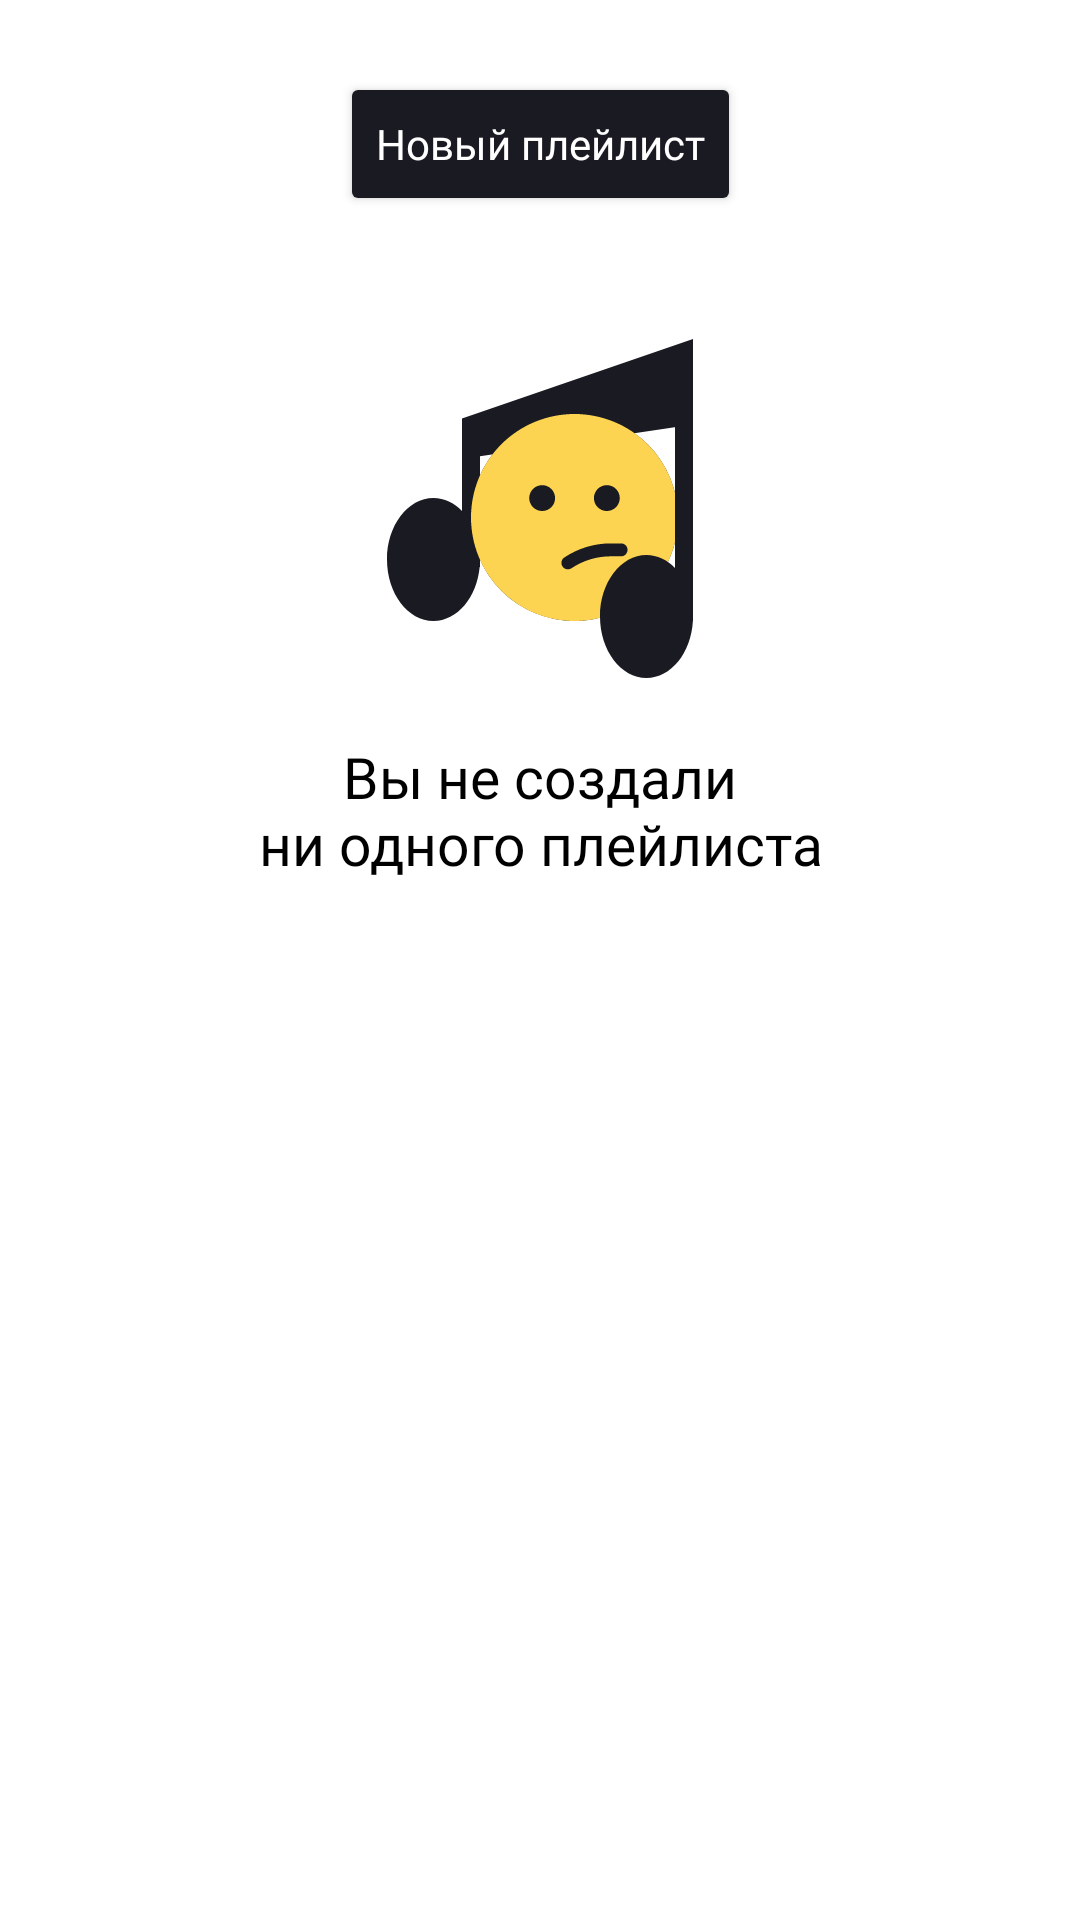

Locate icon controls on the screen. Image size 1080px x 1920px, boxes as [x1, y1, x2, y2].
nothing found: [387, 339, 693, 678]
